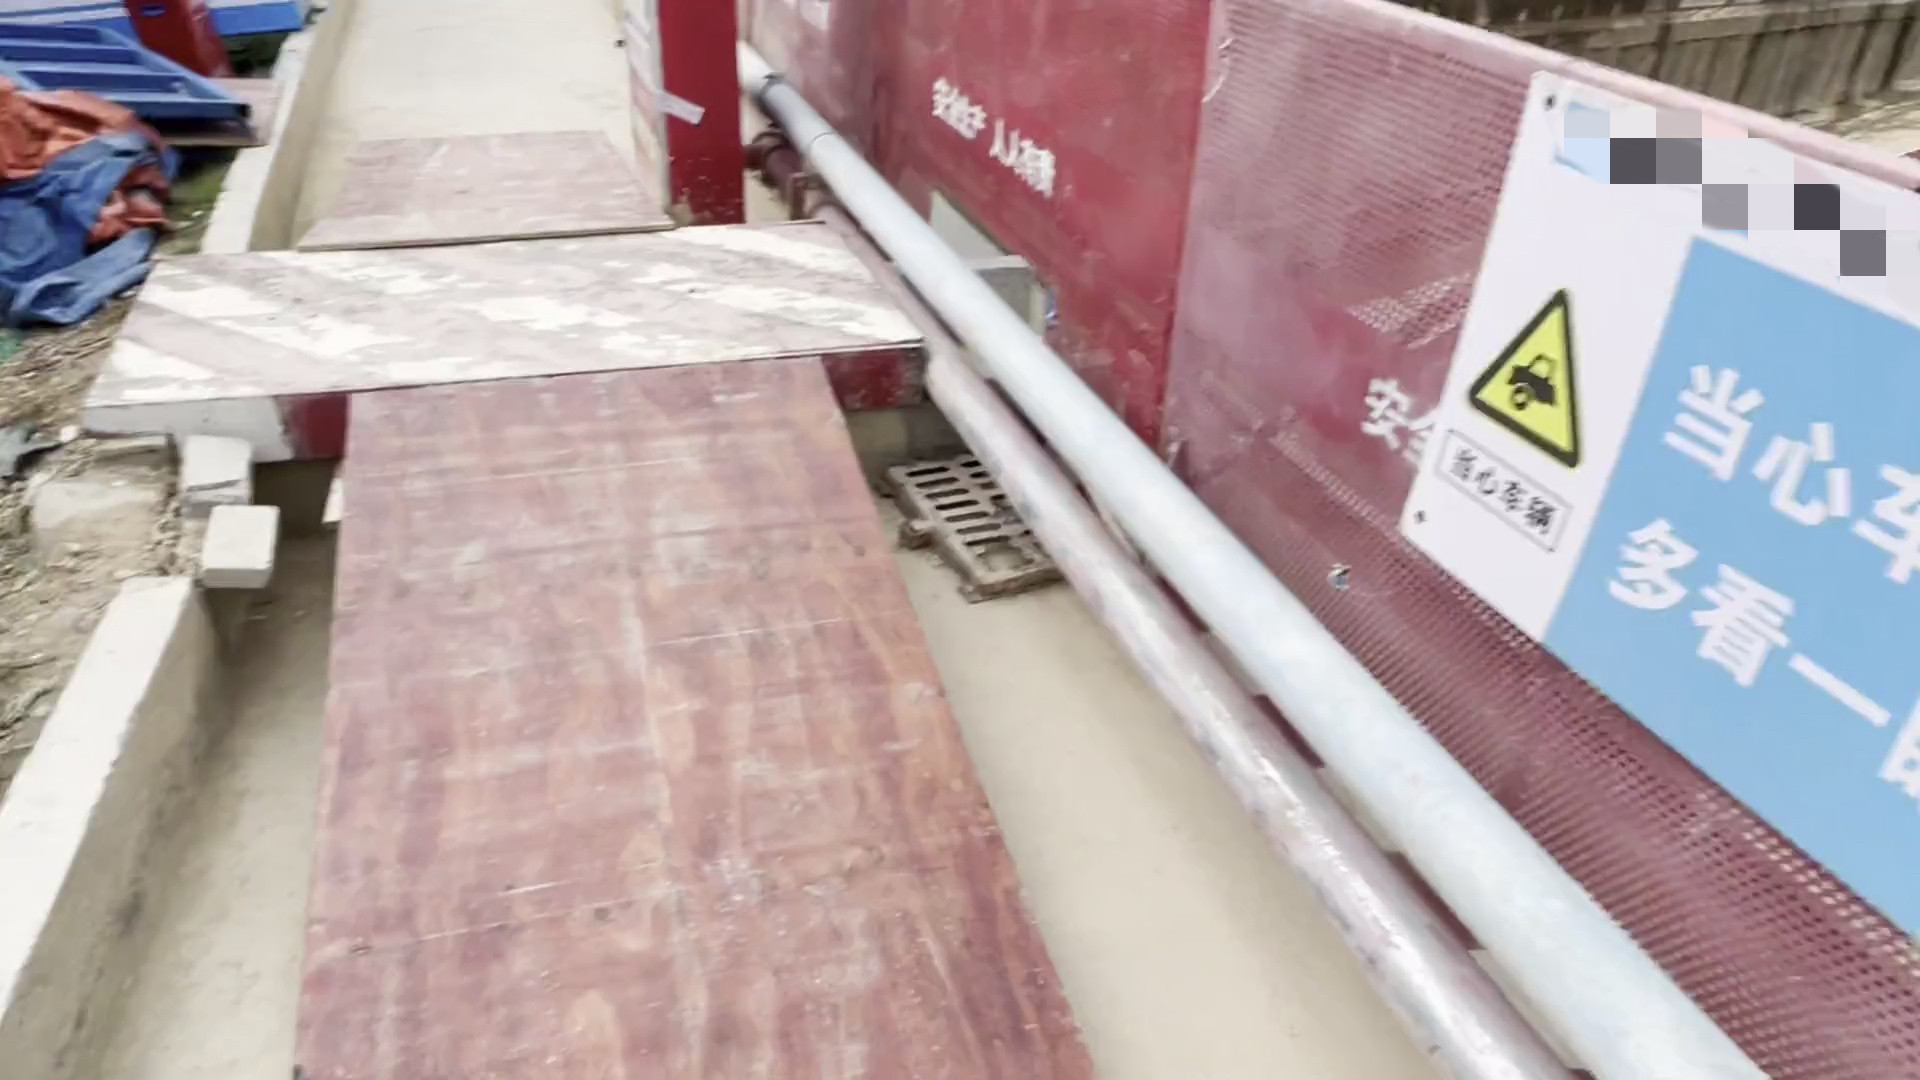board: (319, 378, 1095, 1080), (334, 123, 659, 245)
fence: (922, 1, 1404, 632)
slogan: (1400, 61, 1920, 931)
